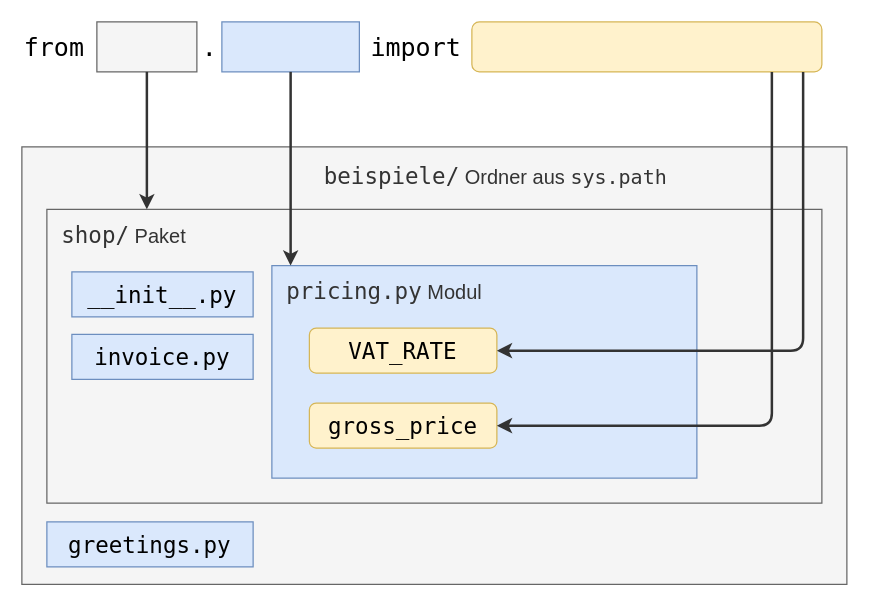
Image size: 869x606. Some labels were removed from this diagram. Here are the shapes that lost their labels. From the top down, the centre of each, then its label:
At [146,46]: "shop".
At [290,46]: "pricing".
At [646,46]: "gross_price, VAT_RATE".
